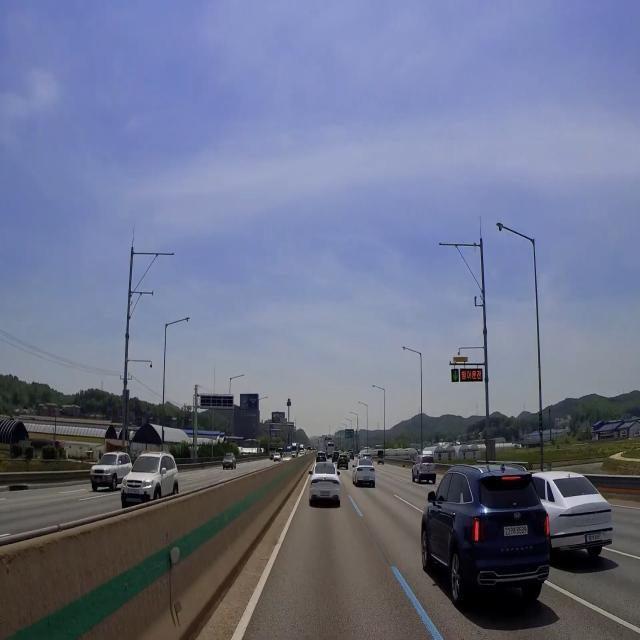car: (500, 520, 531, 542), (580, 528, 610, 545), (125, 483, 140, 501), (361, 472, 374, 484), (320, 488, 333, 499)
